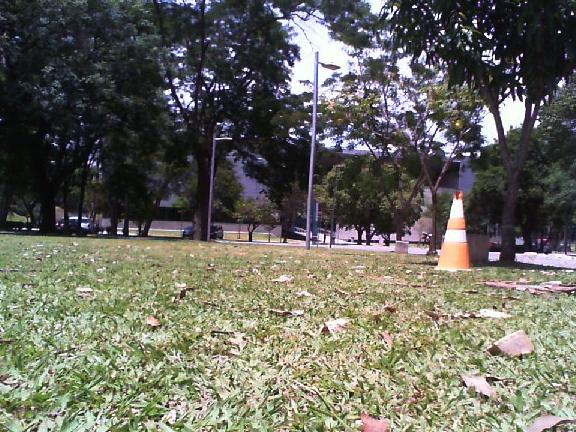0 cone: (435, 192, 475, 273)
